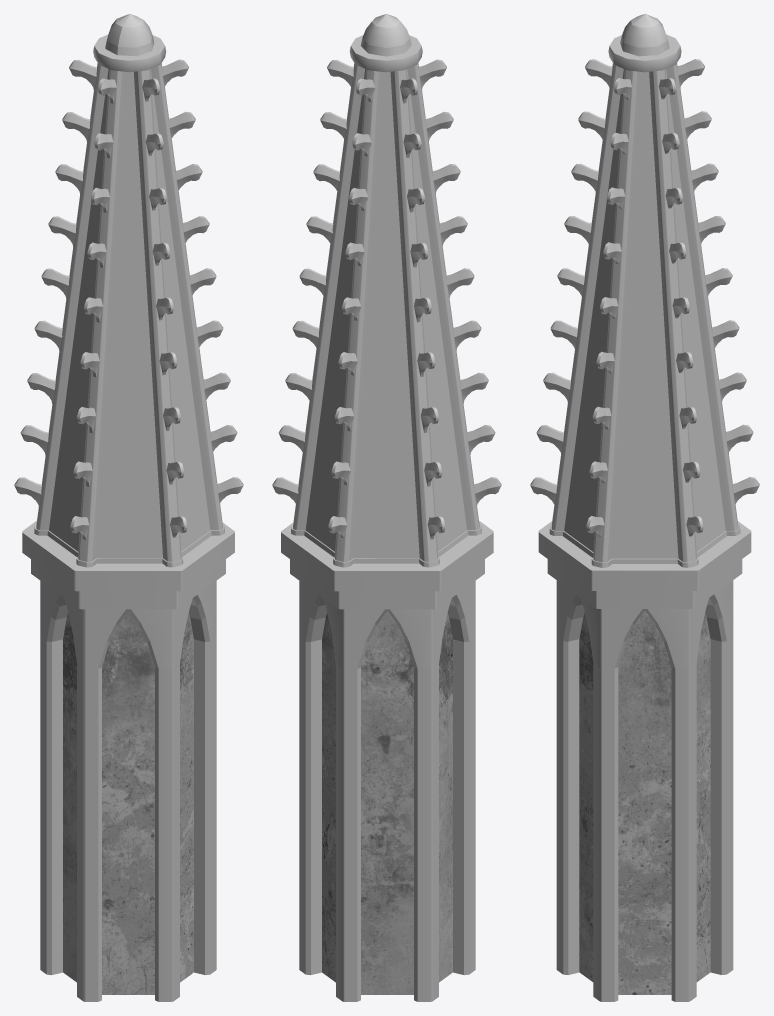
The model's file is SM_PinnacleSingle_01a.fbx.
The picture shows the model from 3 angles, left to right: view 1: azimuth 30°, elevation 25°; view 2: azimuth 150°, elevation 25°; view 3: azimuth 270°, elevation 25°; orthographic projection.
Parts seen in each view (by area): view 1: SM_PinnacleSingle_01a_LOD0; view 2: SM_PinnacleSingle_01a_LOD0; view 3: SM_PinnacleSingle_01a_LOD0.
Boxes of the visible parts, left/top/right/bottom form: SM_PinnacleSingle_01a_LOD0: left=14, top=14, right=243, bottom=1001; SM_PinnacleSingle_01a_LOD0: left=272, top=14, right=501, bottom=1001; SM_PinnacleSingle_01a_LOD0: left=530, top=14, right=759, bottom=1001.
Size of the model in its own units: 164 by 188 by 862.
